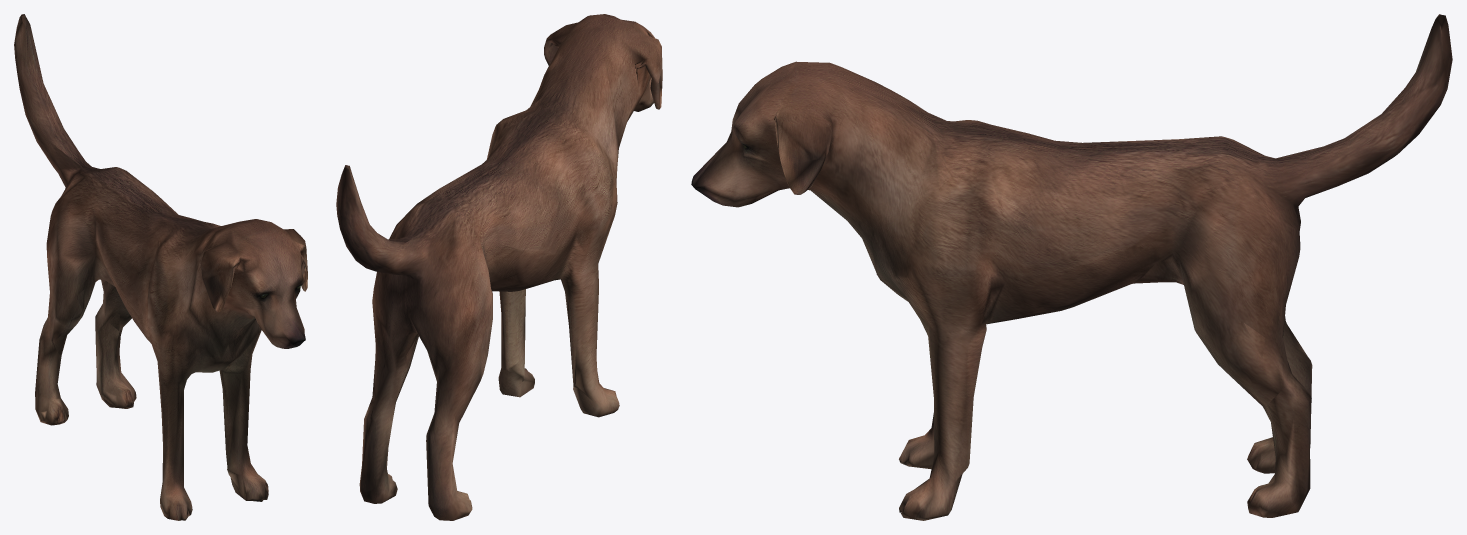
Rendered from dog.fbx.
3 views of the same model, side by side, from view 1: azimuth 30°, elevation 25°; view 2: azimuth 150°, elevation 25°; view 3: azimuth 270°, elevation 25° (orthographic). The views are drawn at different scales.
Parts seen in each view (by area): view 1: mesh_node; view 2: mesh_node; view 3: mesh_node.
Boxes of the visible parts, x1=… form: mesh_node: x1=14, y1=14, x2=307, y2=520; mesh_node: x1=336, y1=14, x2=662, y2=520; mesh_node: x1=691, y1=14, x2=1452, y2=520.
Bounding box in the file's own units: 40.47 × 130 × 190.
Materials: 1 (1 with a texture image).
